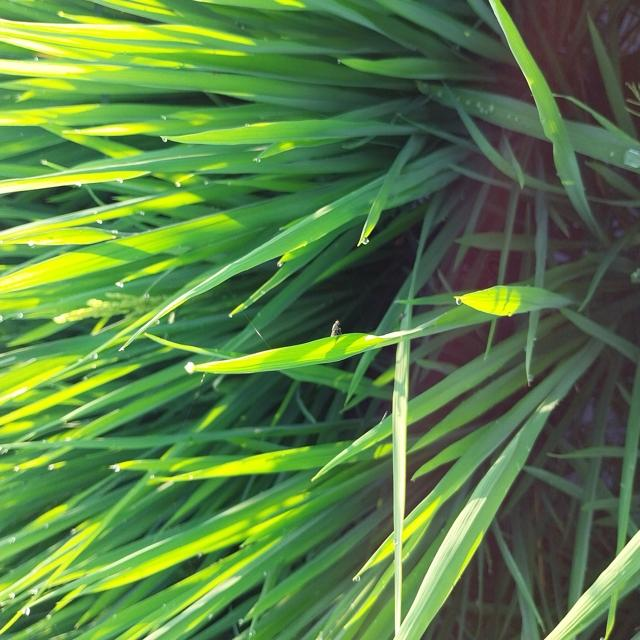healthy: (325, 311, 350, 351)
